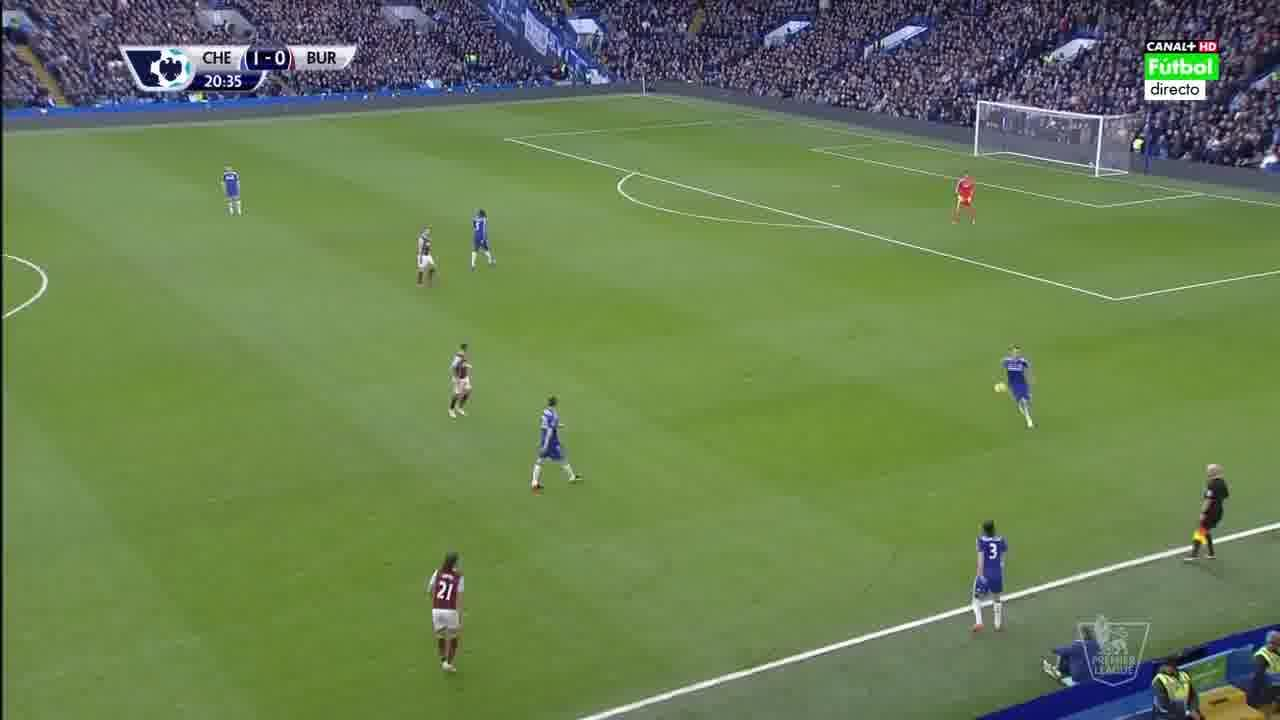football: (993, 382, 1008, 393)
